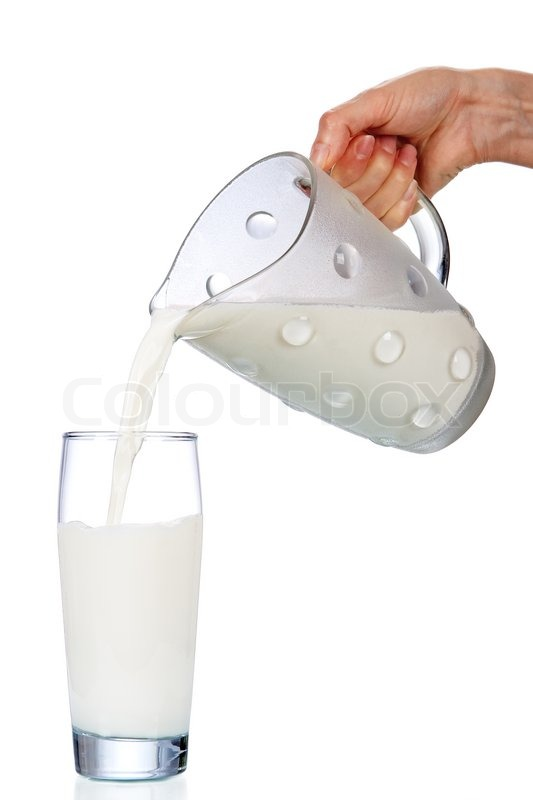glass of milk: (156, 149, 487, 447), (60, 431, 201, 782)
